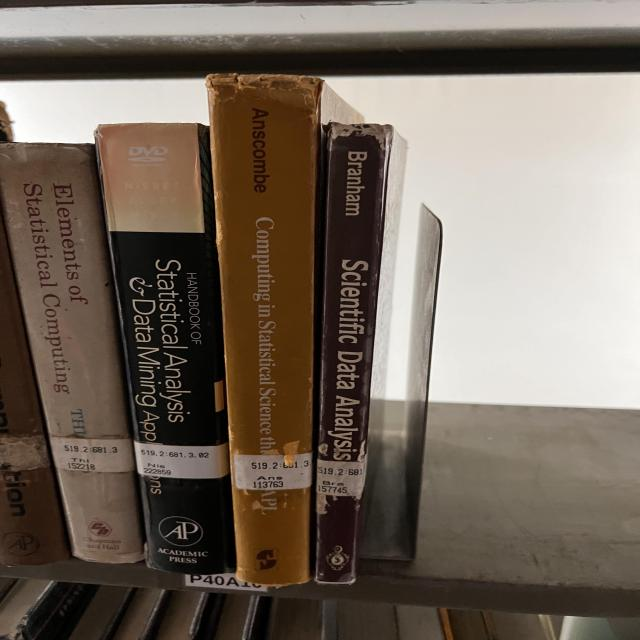Book: (207, 74, 362, 586), (95, 124, 235, 575), (0, 142, 145, 564), (315, 122, 407, 584)
Label: (135, 441, 230, 479), (50, 436, 135, 472), (233, 452, 312, 490), (317, 459, 365, 499)
